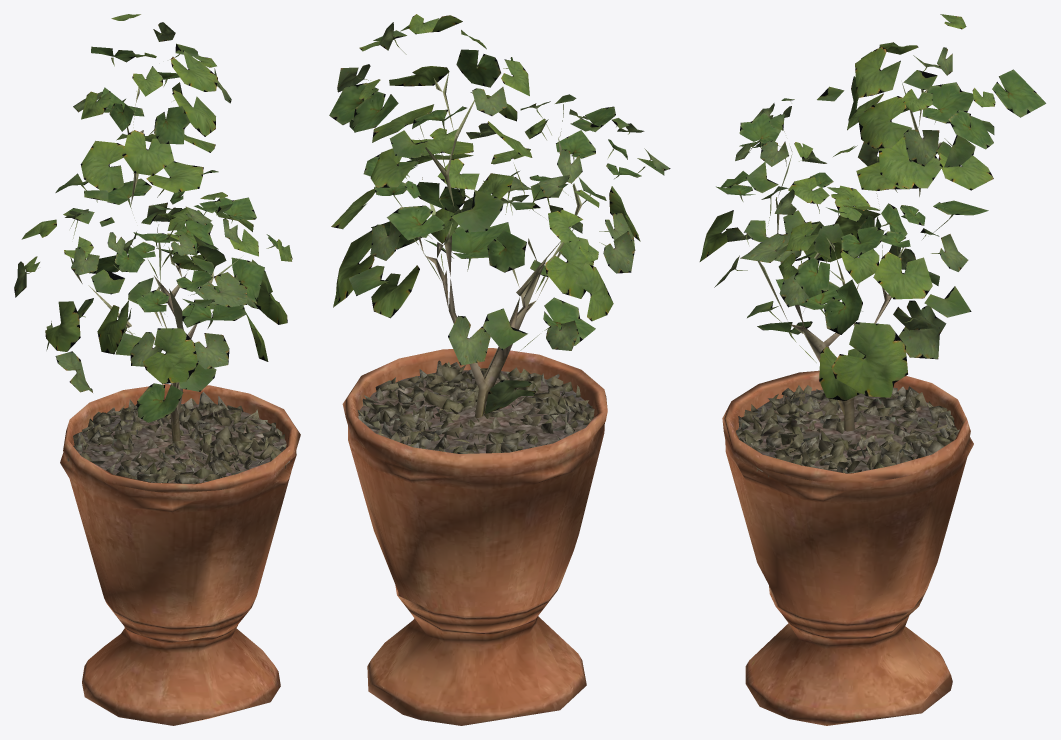
Rendered from potted_plant_01_lod1.glb.
The picture shows the model from 3 angles, left to right: view 1: azimuth 30°, elevation 25°; view 2: azimuth 150°, elevation 25°; view 3: azimuth 270°, elevation 25°; orthographic projection. The views are drawn at different scales.
Parts seen in each view (by area): view 1: potted_plant_01_stem, potted_plant_01_leaves; view 2: potted_plant_01_stem, potted_plant_01_leaves; view 3: potted_plant_01_stem, potted_plant_01_leaves.
Part boxes in pixels (x1,y1,x2,y2): potted_plant_01_stem: (60,87,300,725); potted_plant_01_leaves: (14,14,292,422); potted_plant_01_stem: (342,72,607,725); potted_plant_01_leaves: (329,14,670,414); potted_plant_01_stem: (722,83,973,725); potted_plant_01_leaves: (699,14,1045,400).
Size of the model in its own units: 0.5754 by 1.34 by 0.6336.
Materials: 2 (2 with a texture image).
